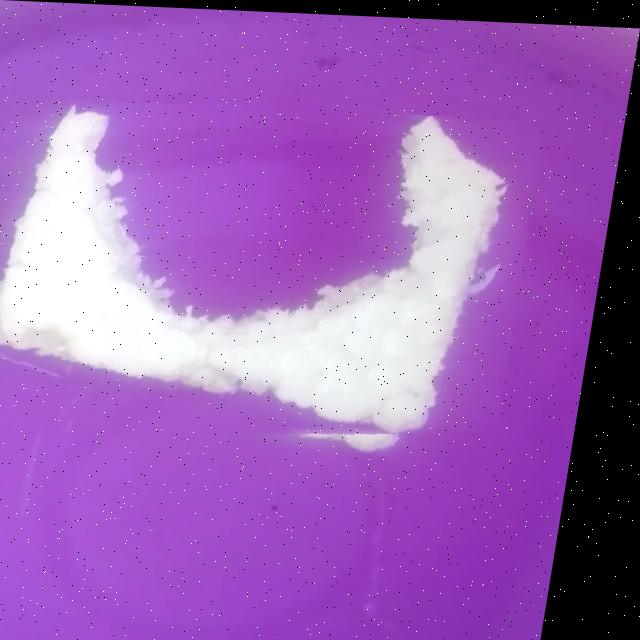litter: (0, 96, 550, 453)
